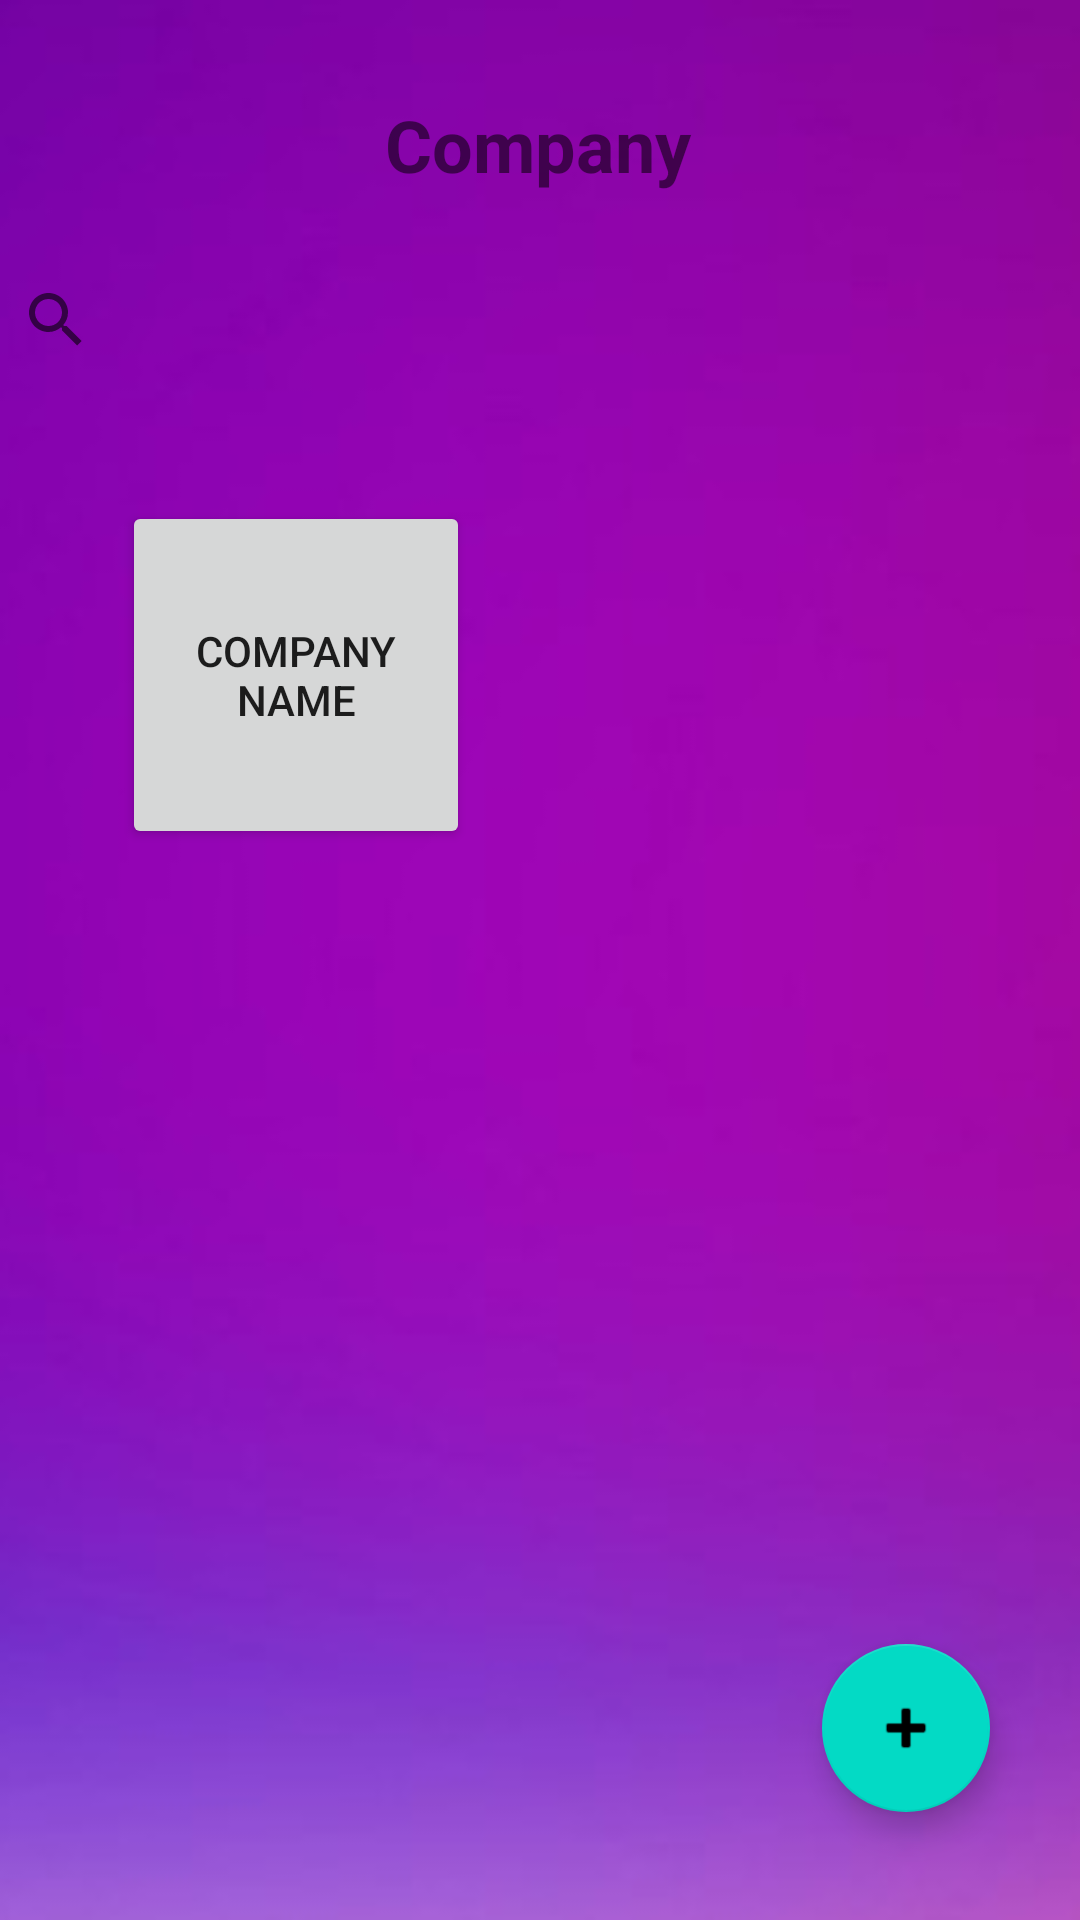

Locate icon controls on the screen. Image size 1080 × 1920, boxes as Rect(x1, y1, x2, y2).
add: Rect(822, 1644, 990, 1812)
